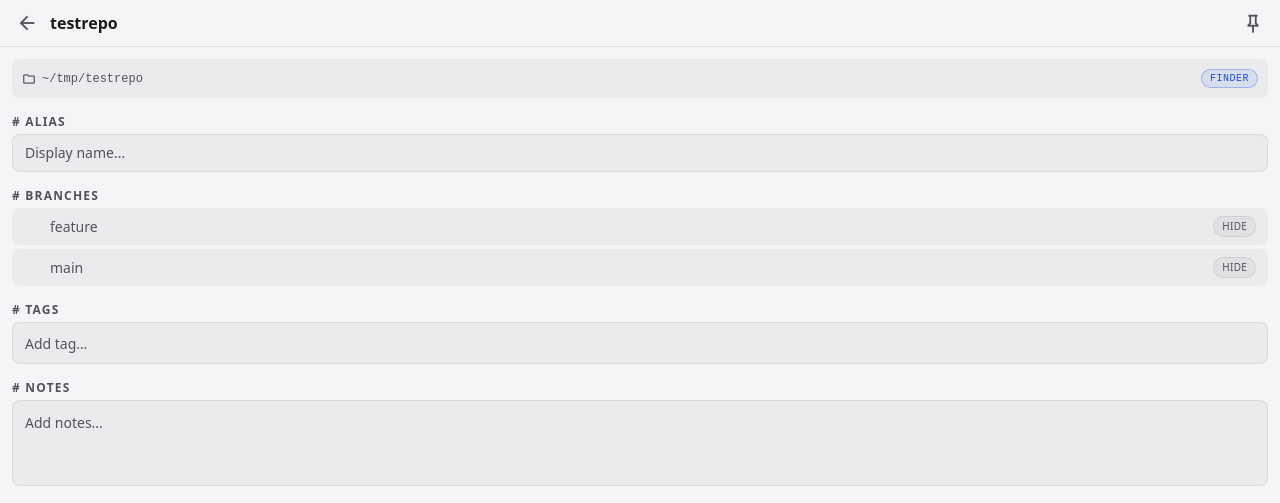
Test: DetailPane › hide_branch_invokes_set_branch_hidden_and_filters_row
Expected: the button with aria-label "Activate branch feature" is shown, [50,217,1205,237]
Step 1. Click the button with aria-label "Hide branch feature" → (1235, 227), box [1213,216,1256,237]
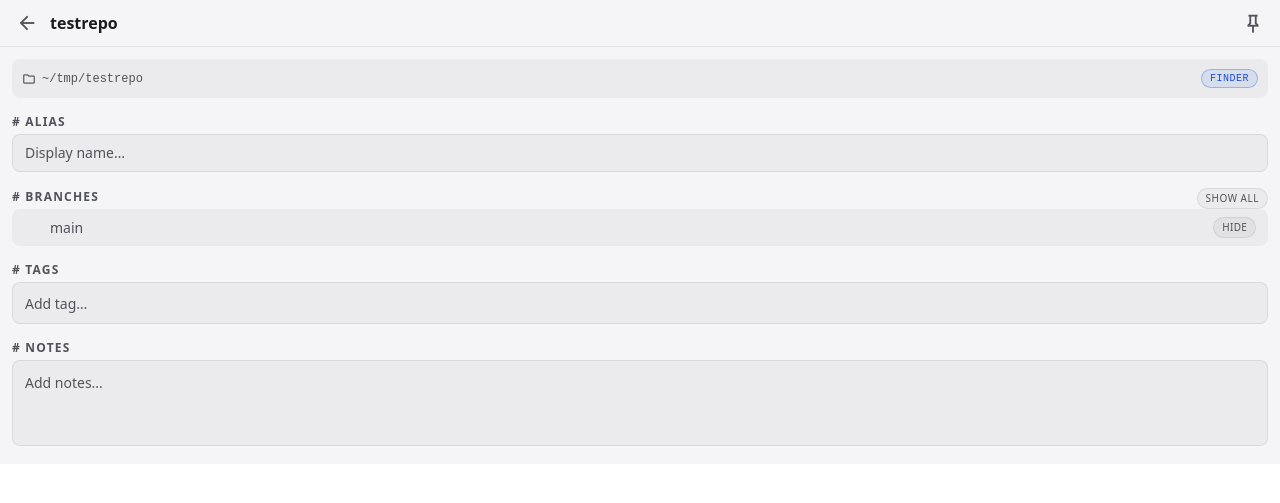
Expected: the button with aria-label "Activate branch main" is shown, [50,218,1205,238]
Now the button "Show all" is shown, box [1197,188,1268,209]
